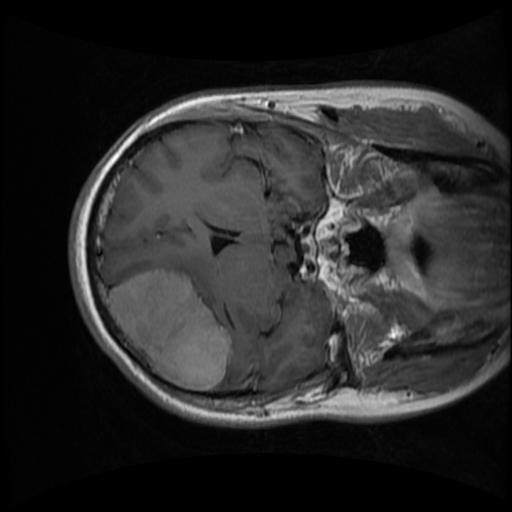meningioma: (107, 268, 231, 391)
